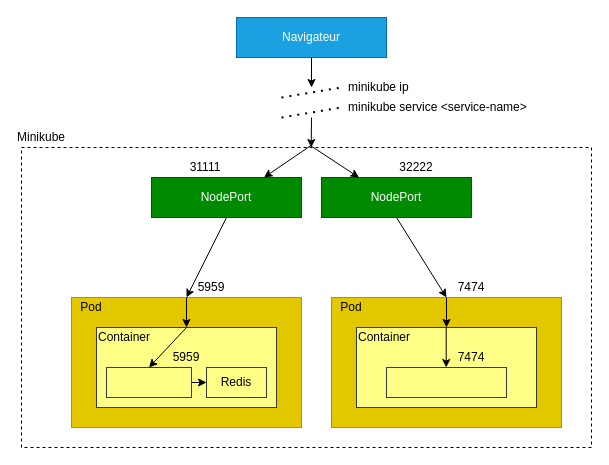
The diagram is 609 pixels wide and 465 high, and some of its shapes have lost their labels. Here are the shapes that lost their labels. From the top down, the centre of each, then its label:
point 149,382: Node.js API
point 446,382: Node.js front
